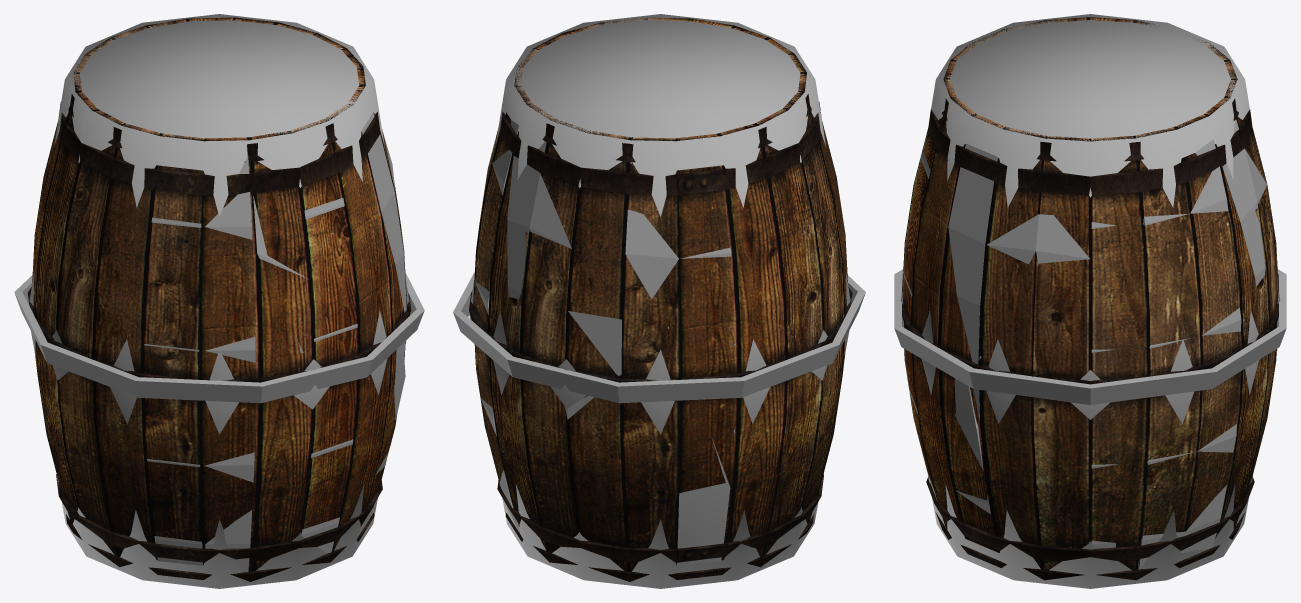
File: barrel.fbx
3 views of the same model, side by side, from view 1: azimuth 30°, elevation 25°; view 2: azimuth 150°, elevation 25°; view 3: azimuth 270°, elevation 25° (orthographic).
Visible parts, largest first — view 1: barrel, barrel_phys, ring_phys, part_11_phys, part_15_phys, part_05, part_11, part_01, part_04, part_04_phys, part_02, part_16_phys (+2 smaller); view 2: barrel, barrel_phys, ring_phys, part_07_phys, part_06, part_12_phys, part_13_phys, part_12, part_05, part_13, part_07, part_10_phys (+1 smaller); view 3: barrel, barrel_phys, ring_phys, part_15_phys, part_10_phys, part_08, part_09_phys, part_07_phys, part_09, part_16_phys, part_10, part_06 (+4 smaller).
Part boxes in pixels (bbox=[...]): barrel: bbox=[27, 17, 411, 581]; barrel_phys: bbox=[29, 14, 411, 588]; ring_phys: bbox=[14, 272, 424, 403]; part_11_phys: bbox=[144, 155, 255, 572]; part_15_phys: bbox=[361, 112, 406, 357]; part_05: bbox=[36, 122, 153, 556]; part_11: bbox=[144, 162, 258, 562]; part_01: bbox=[252, 259, 311, 562]; part_04: bbox=[312, 150, 358, 551]; part_04_phys: bbox=[301, 198, 357, 553]; part_02: bbox=[251, 162, 312, 423]; part_16_phys: bbox=[375, 315, 405, 475]; barrel: bbox=[469, 17, 852, 581]; barrel_phys: bbox=[469, 14, 851, 588]; ring_phys: bbox=[453, 271, 865, 403]; part_07_phys: bbox=[507, 135, 621, 419]; part_06: bbox=[489, 162, 628, 571]; part_12_phys: bbox=[677, 437, 730, 565]; part_13_phys: bbox=[625, 162, 735, 436]; part_12: bbox=[621, 258, 730, 571]; part_05: bbox=[724, 113, 842, 554]; part_13: bbox=[625, 166, 736, 483]; part_07: bbox=[505, 134, 615, 427]; part_10_phys: bbox=[475, 120, 520, 533]; barrel: bbox=[902, 17, 1278, 580]; barrel_phys: bbox=[900, 14, 1280, 588]; ring_phys: bbox=[894, 269, 1286, 404]; part_15_phys: bbox=[948, 143, 997, 422]; part_10_phys: bbox=[1139, 139, 1241, 569]; part_08: bbox=[980, 256, 1089, 569]; part_09_phys: bbox=[979, 214, 1089, 359]; part_07_phys: bbox=[1217, 119, 1277, 350]; part_09: bbox=[982, 161, 1090, 491]; part_16_phys: bbox=[954, 356, 990, 514]; part_10: bbox=[1137, 154, 1242, 569]; part_06: bbox=[1216, 170, 1276, 536].
Size of the model in its own units: 0.8412 by 1 by 0.8.
